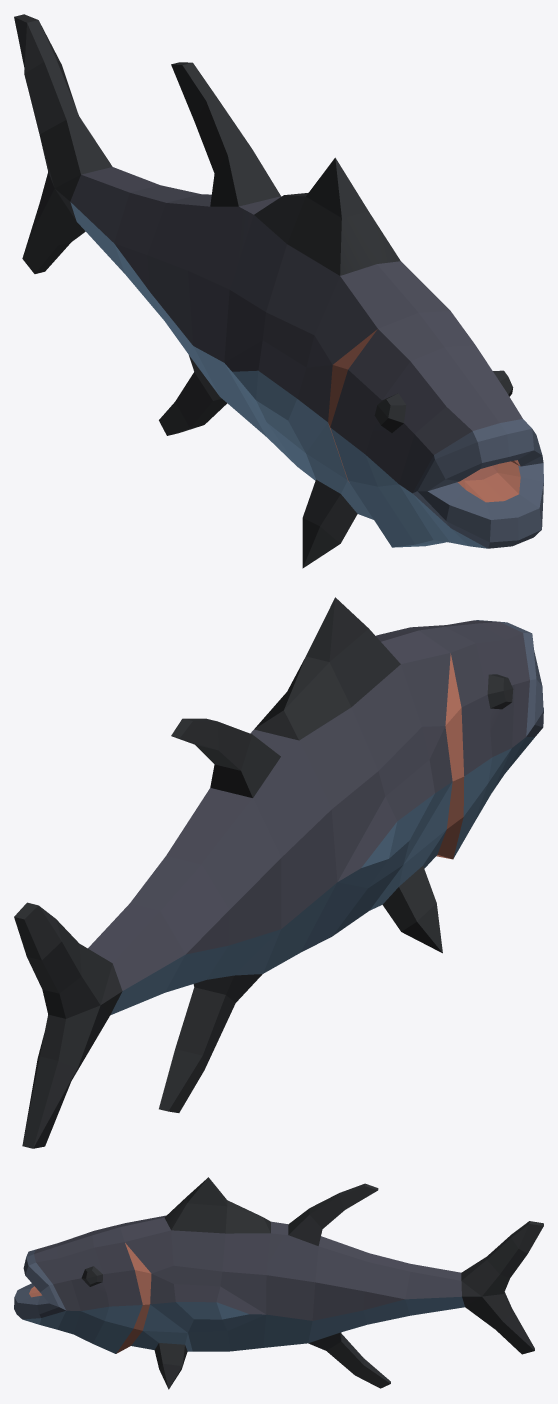
Rendered from SM_Prop_Fish_01.fbx.
The picture shows the model from 3 angles, top to bottom: view 1: azimuth 30°, elevation 25°; view 2: azimuth 150°, elevation 25°; view 3: azimuth 270°, elevation 25°; orthographic projection. The views are drawn at different scales.
Parts seen in each view (by area): view 1: SM_Prop_Fish_01; view 2: SM_Prop_Fish_01; view 3: SM_Prop_Fish_01.
Part boxes in pixels (x1,y1,x2,y2): SM_Prop_Fish_01: (14, 14, 543, 568); SM_Prop_Fish_01: (14, 597, 543, 1148); SM_Prop_Fish_01: (14, 1177, 543, 1389).
Size of the model in its own units: 31.97 by 86.14 by 197.
